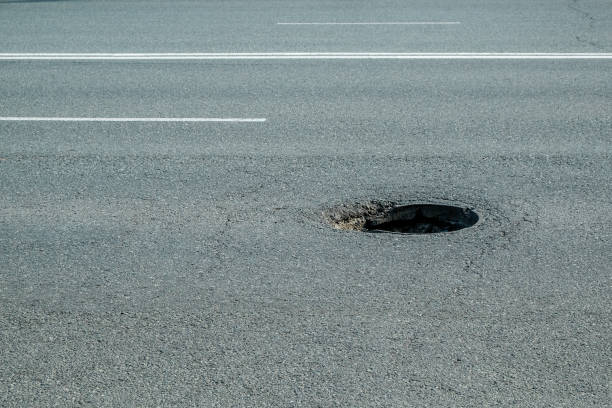open_manhole: (347, 193, 498, 242)
